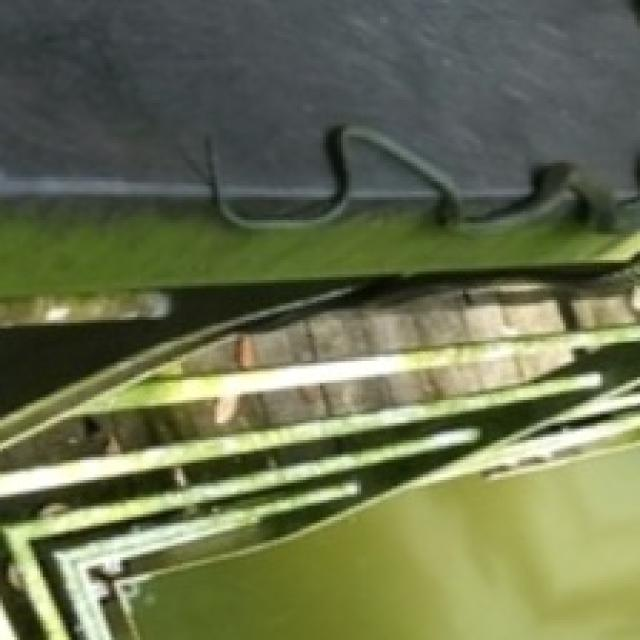paradise tree snake: (0, 0, 637, 637), (14, 280, 466, 417), (211, 120, 617, 234), (137, 349, 186, 380)
